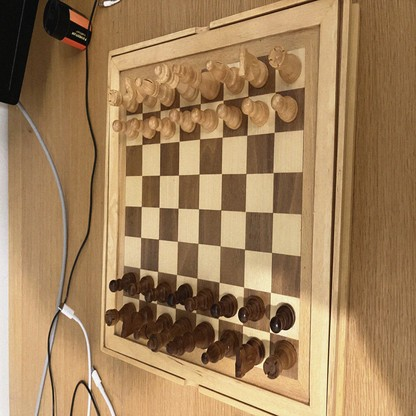bishop_black: (201, 332, 237, 363), (134, 315, 173, 339)
bishop_white: (206, 61, 244, 92), (134, 78, 177, 105)
king_black: (165, 321, 215, 358)
king_white: (172, 63, 220, 97)
knight_black: (234, 339, 265, 377), (120, 308, 151, 337)
knight_white: (240, 46, 269, 86), (125, 78, 157, 106)
pawn_black: (270, 304, 296, 332), (239, 297, 265, 322), (186, 288, 213, 312), (126, 276, 154, 296), (212, 295, 237, 317), (168, 284, 193, 306), (145, 284, 171, 304), (110, 273, 136, 292)
pawn_white: (272, 93, 298, 122), (243, 98, 269, 125), (192, 108, 219, 131), (170, 109, 197, 131), (149, 116, 176, 138), (218, 105, 242, 128), (112, 120, 140, 138), (132, 118, 155, 139)
queen_black: (148, 320, 190, 352)
queen_white: (154, 65, 198, 101)
rock_black: (264, 341, 296, 378), (104, 304, 137, 326)
rock_white: (269, 46, 302, 82), (108, 91, 138, 112)
